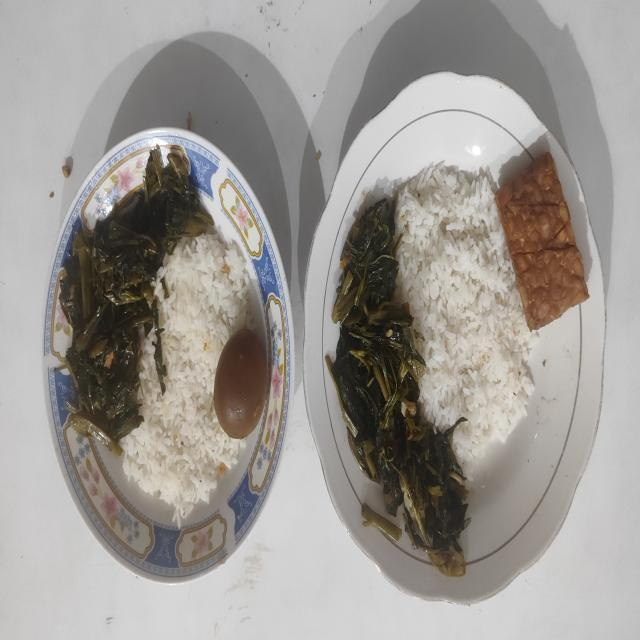nasi_putih: (394, 162, 540, 470), (120, 233, 253, 520)
tempe_goreng: (496, 153, 590, 330)
tumis_kangkung: (326, 200, 470, 574), (58, 146, 214, 445)
